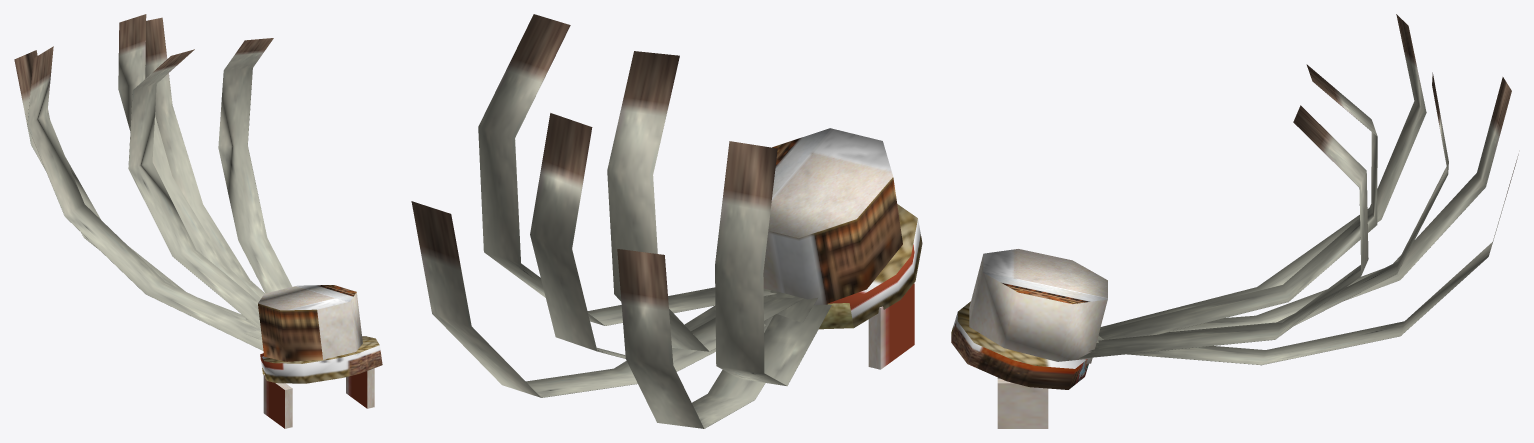
3 views of the same model, side by side, from view 1: azimuth 30°, elevation 25°; view 2: azimuth 150°, elevation 25°; view 3: azimuth 270°, elevation 25° (orthographic). The views are drawn at different scales.
Parts seen in each view (by area): view 1: helmet_n_2_2; view 2: helmet_n_2_2; view 3: helmet_n_2_2.
Boxes of the visible parts, left/top/right/bottom form: helmet_n_2_2: left=14, top=14, right=382, bottom=428; helmet_n_2_2: left=411, top=14, right=922, bottom=428; helmet_n_2_2: left=951, top=14, right=1518, bottom=428.
Bounding box in the file's own units: 1.18 × 2.42 × 1.52.
